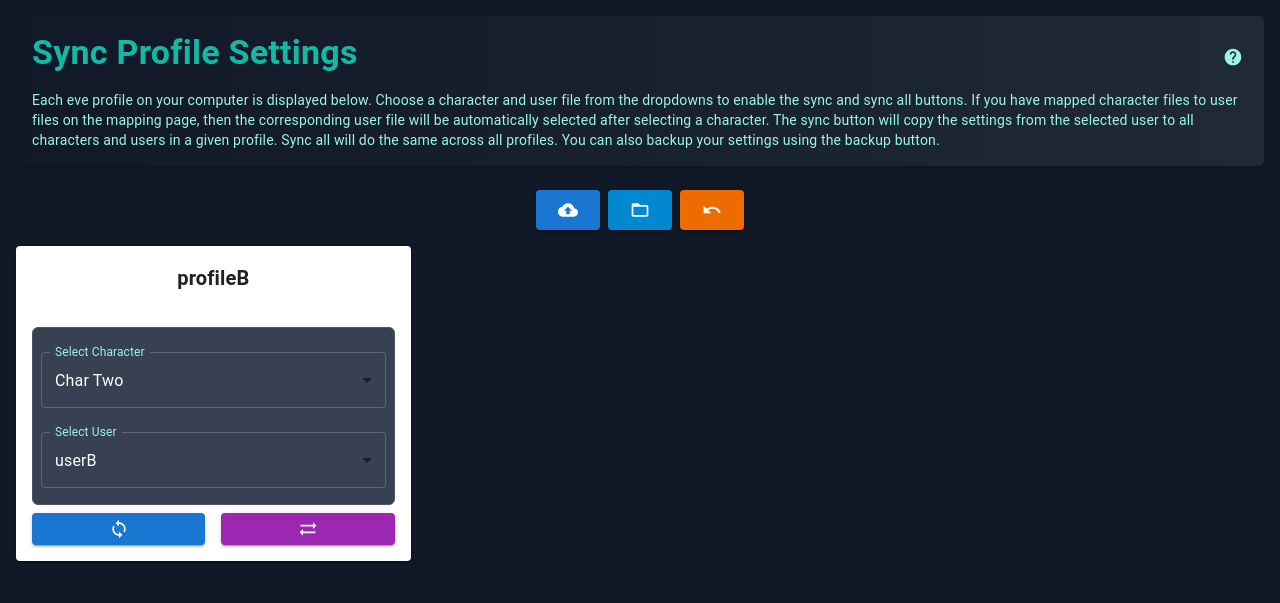
Test case: Sync component › syncs all profiles
What coordinates should you click on to do the following:
click the button named "sync all profiles based on this selection"
I would click on:
 (308, 529)
Its box is 221,513 -> 395,545.
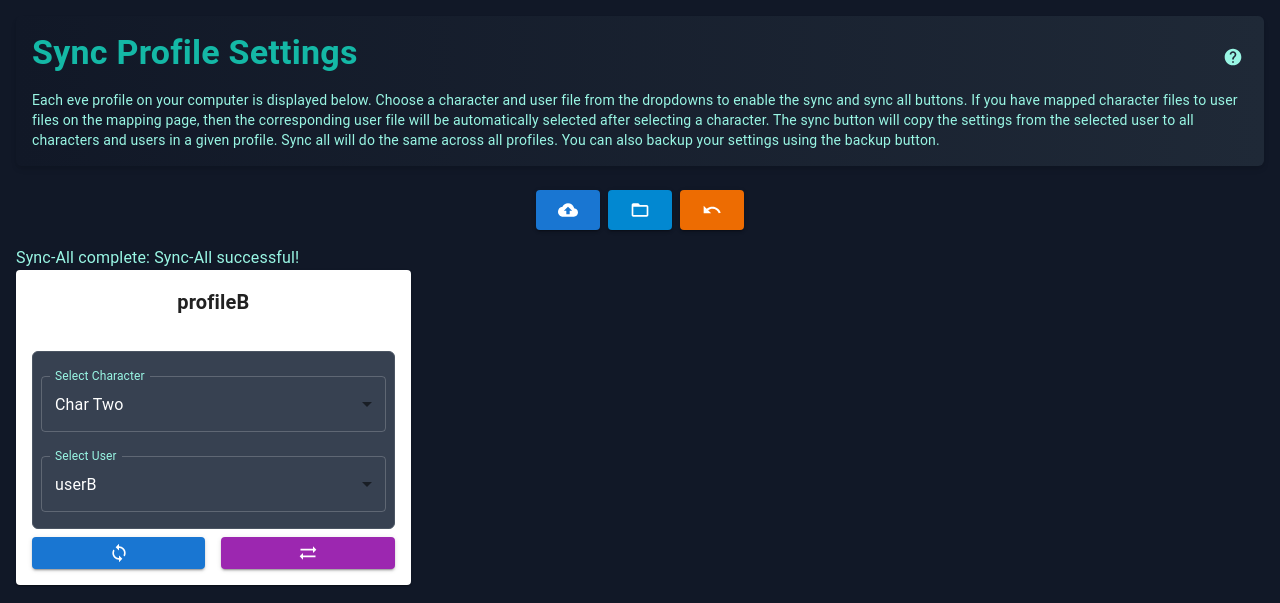
Result: the text "Sync-All complete: Sync-All successful!" is shown at 16,248 -> 299,267
